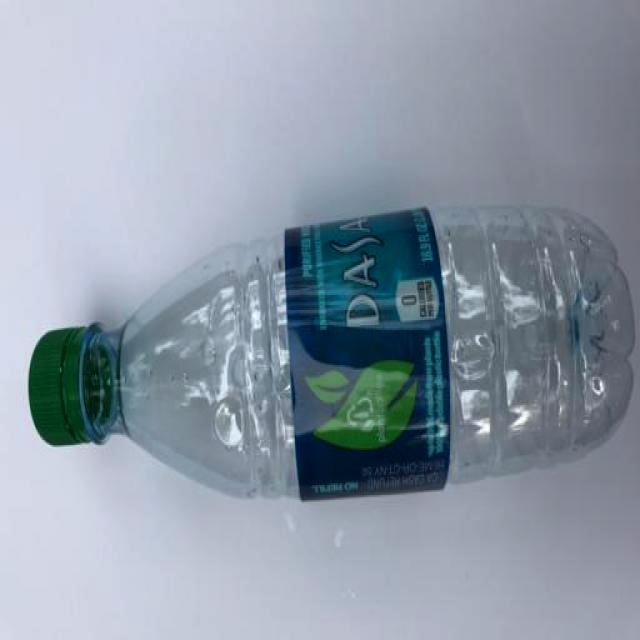bottle: (28, 205, 639, 502)
